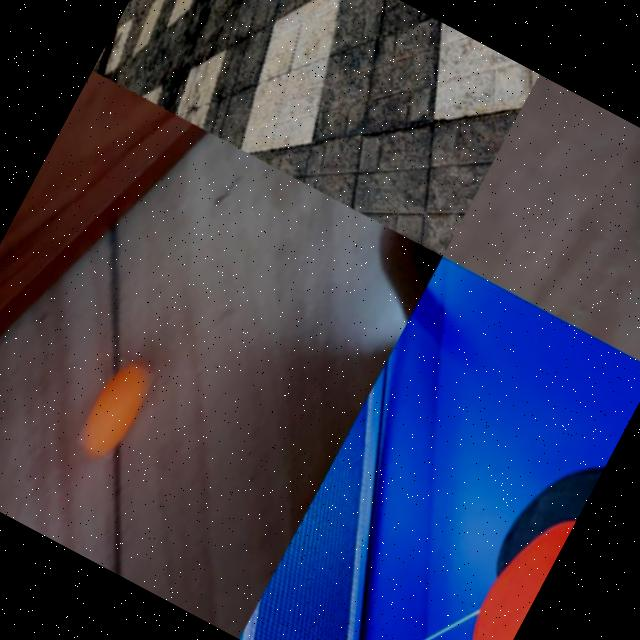ping-pong-ball: (73, 356, 155, 462)
